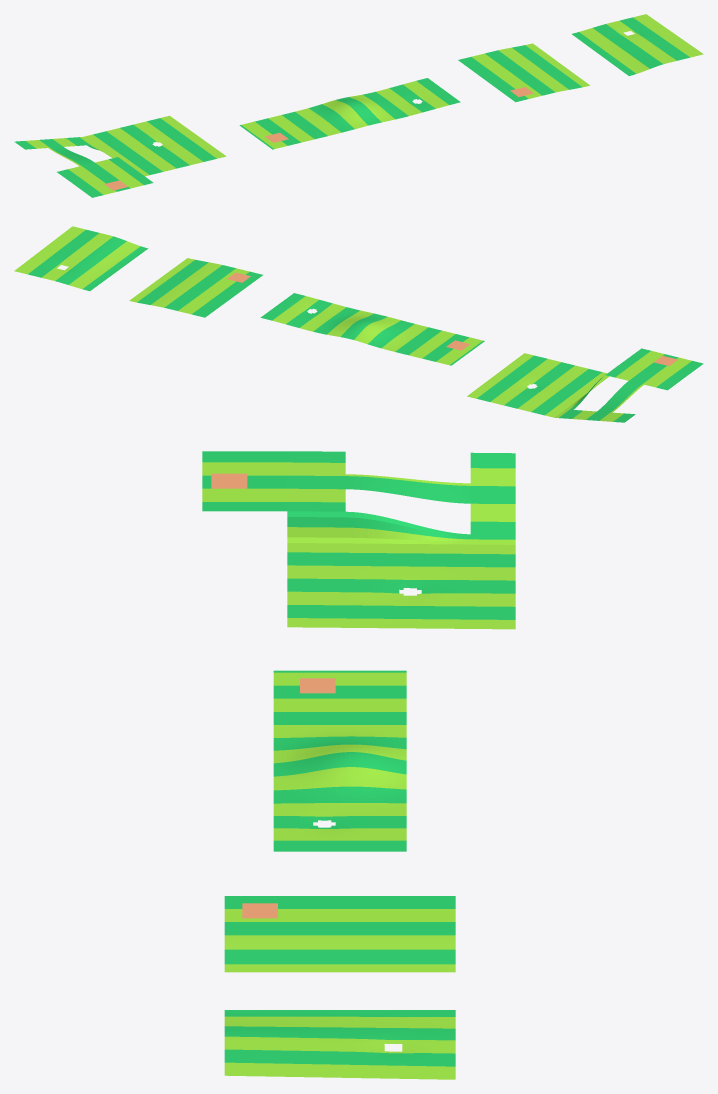
Rendered from greens1.glb.
The picture shows the model from 3 angles, top to bottom: view 1: azimuth 30°, elevation 25°; view 2: azimuth 150°, elevation 25°; view 3: azimuth 270°, elevation 25°; orthographic projection. The views are drawn at different scales.
Visible parts, largest first — view 1: Green3, Green1, Green2; view 2: Green3, Green1, Green2; view 3: Green1, Green3, Green2.
Part boxes in pixels (<box>): Green3: <box>458,14,703,102</box>; Green1: <box>14,115,226,197</box>; Green2: <box>239,78,460,149</box>; Green3: <box>14,226,262,317</box>; Green1: <box>467,348,703,422</box>; Green2: <box>260,293,484,365</box>; Green1: <box>202,451,515,629</box>; Green3: <box>224,896,455,1079</box>; Green2: <box>273,670,406,851</box>.
Size of the model in its own units: 32.1 by 0.73 by 7.05.
